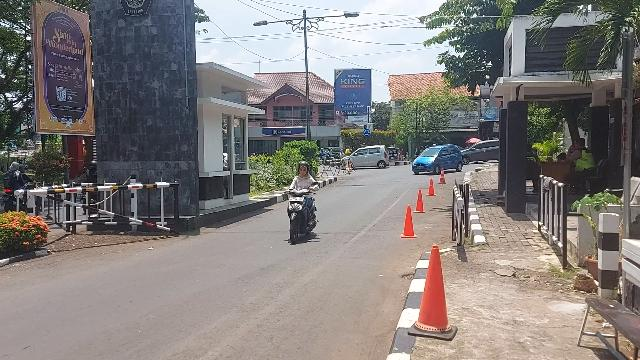helm: (300, 163, 311, 177)
motor: (287, 190, 320, 244)
